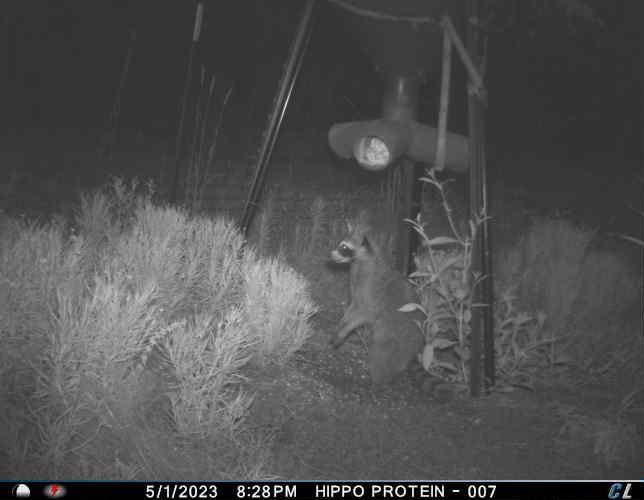Raccoon: (321, 215, 454, 406)
